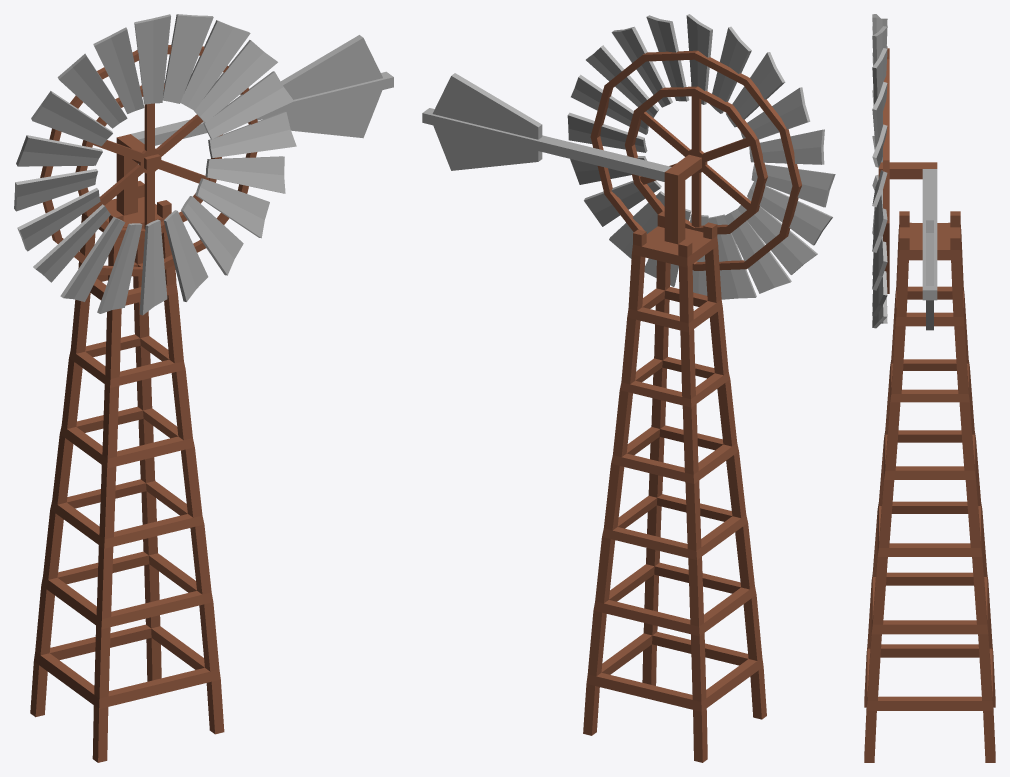
The model's file is Windmill.glb.
3 renders of one model, left to right at view 1: azimuth 30°, elevation 25°; view 2: azimuth 150°, elevation 25°; view 3: azimuth 270°, elevation 25°, orthographic. The views are drawn at different scales.
Visible parts, largest first — view 1: Windmill, Windmill_Blades; view 2: Windmill, Windmill_Blades; view 3: Windmill, Windmill_Blades.
Part boxes in pixels (bbox=[...]): Windmill: bbox=[30, 35, 393, 762]; Windmill_Blades: bbox=[14, 14, 296, 315]; Windmill: bbox=[422, 73, 766, 762]; Windmill_Blades: bbox=[567, 14, 835, 299]; Windmill: bbox=[864, 162, 995, 762]; Windmill_Blades: bbox=[872, 14, 889, 328].
Size of the model in its own units: 6.51 by 11.2 by 1.9.
